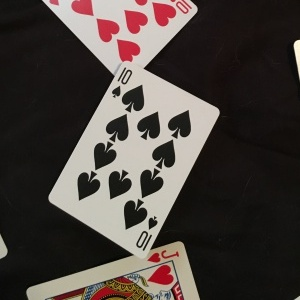card: (50, 60, 220, 254), (30, 239, 204, 299)
